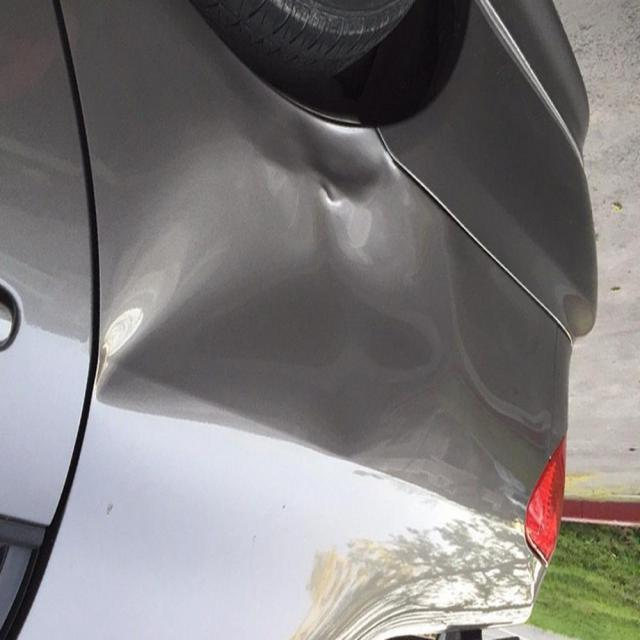dent: (76, 108, 489, 484)
